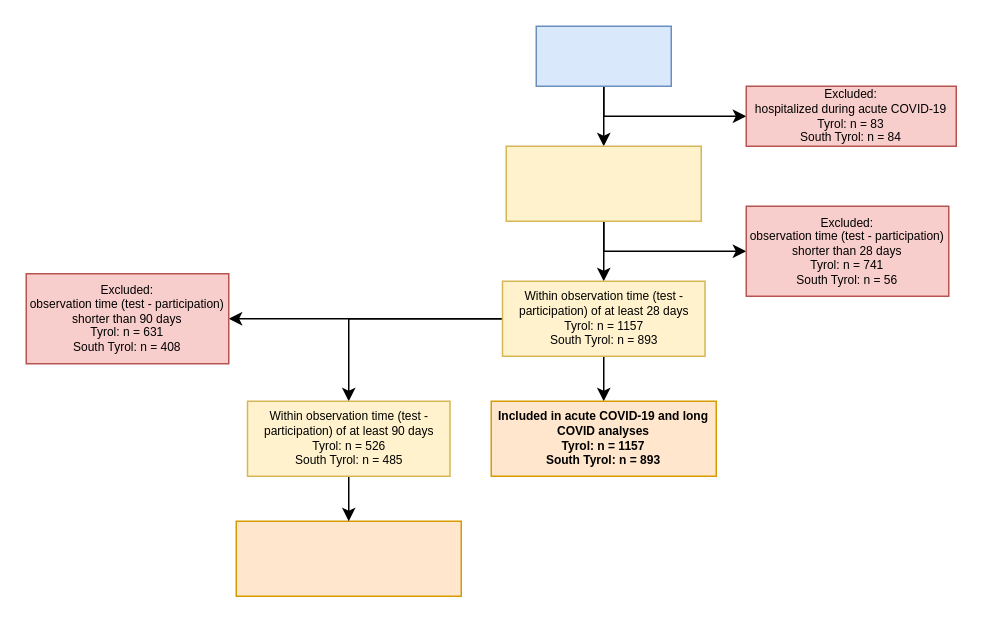
This 983x623 diagram has some shape labels left out. The shapes that lost their labels are listed below. From the top down, each one's centre as x and y in pixels, then its label:
the point at 603,55: Recruited Tyrol: n = 2065 South Tyrol: n = 1075
the point at 603,183: Non-hospitalized during acute COVID-19 Tyrol: n = 1946 South Tyrol: n = 981
the point at 348,558: Included in PASC analyses Tyrol: n = 526 South Tyrol: n = 485
